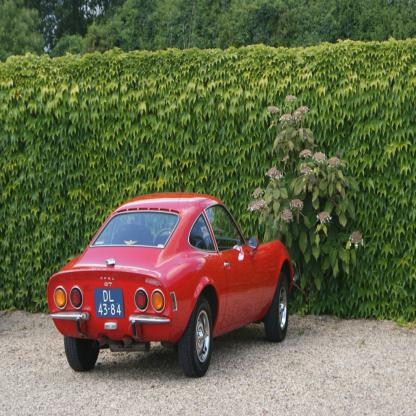Car: (46, 192, 296, 376)
